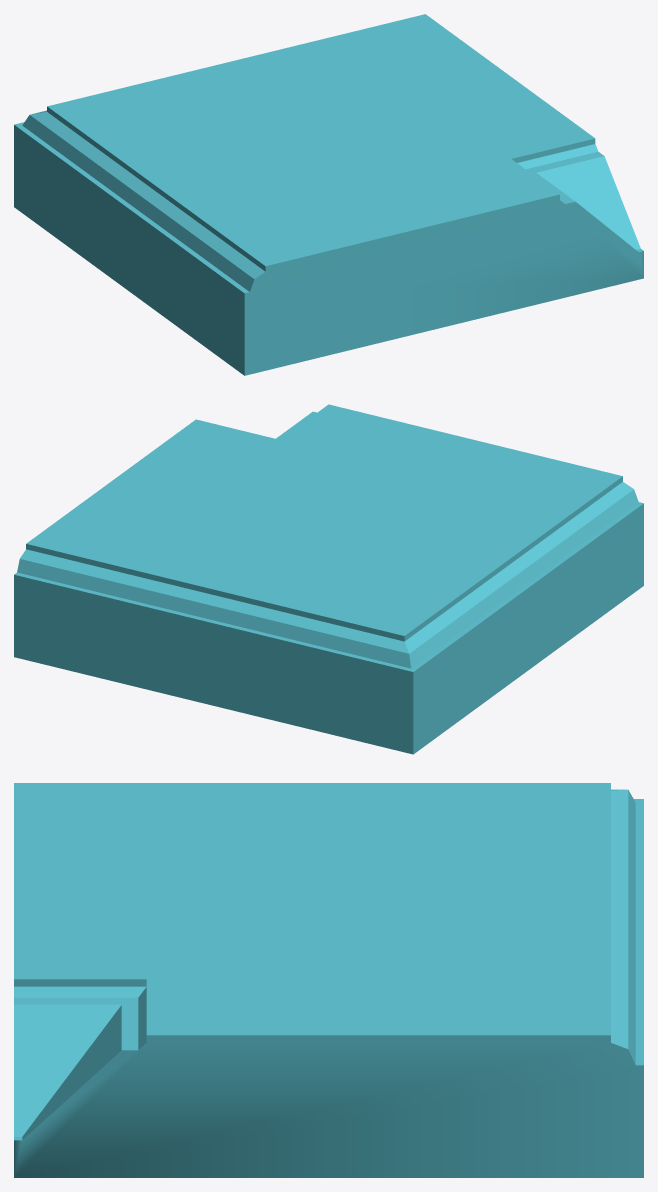
Rendered from classic_simple_corner.glb.
The picture shows the model from 3 angles, top to bottom: view 1: azimuth 30°, elevation 25°; view 2: azimuth 150°, elevation 25°; view 3: azimuth 270°, elevation 25°; orthographic projection. The views are drawn at different scales.
Parts seen in each view (by area): view 1: VIFS001; view 2: VIFS001; view 3: VIFS001.
Part boxes in pixels (box(x1,y1,x2,y2)): VIFS001: box(14, 14, 643, 375); VIFS001: box(14, 404, 643, 754); VIFS001: box(14, 783, 643, 1177).
Bounding box in the file's own units: 0.076 × 0.019 × 0.076.
